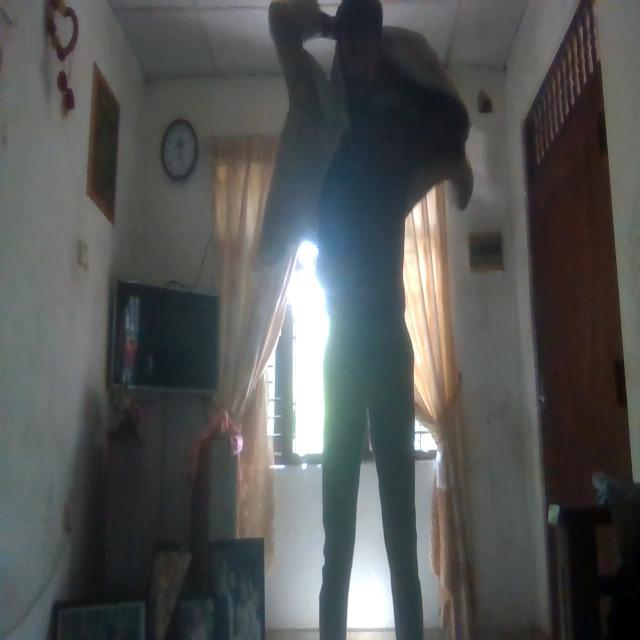Jacket_Wearer: (267, 59, 465, 396)
Person: (272, 0, 462, 636)
